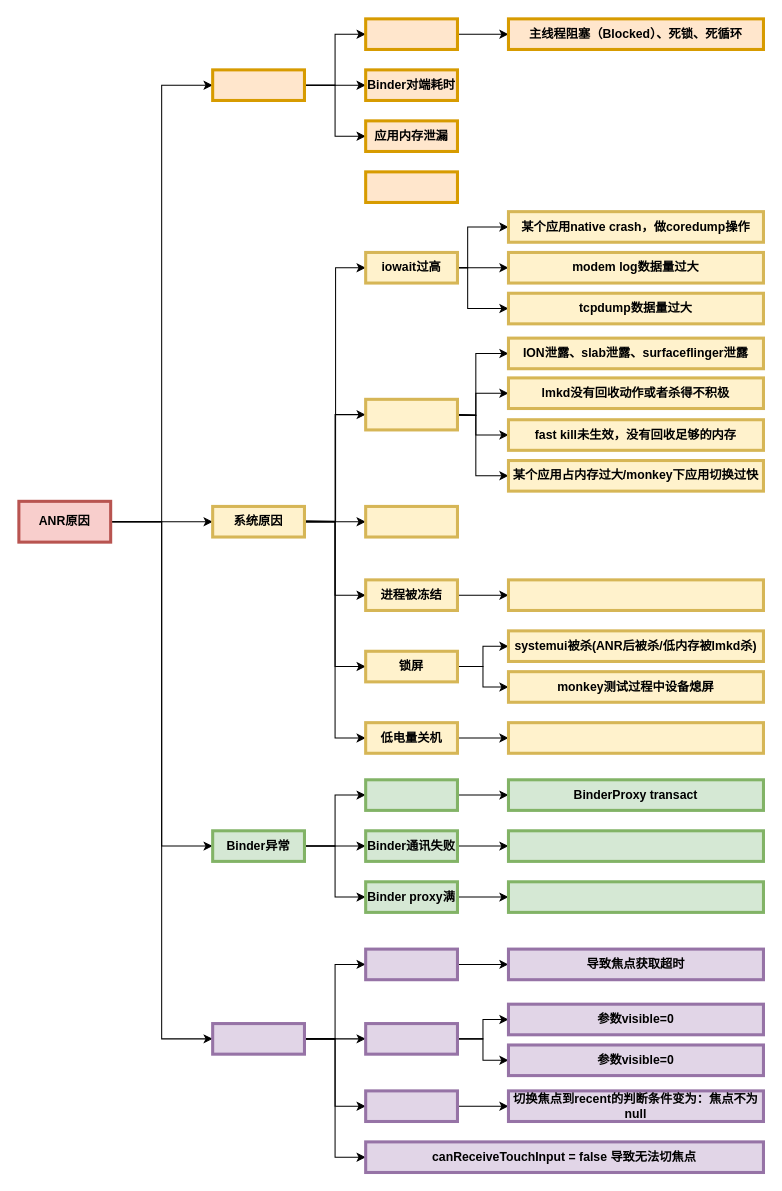
The diagram is 782 pixels wide and 1191 high, and some of its shapes have lost their labels. Here are the shapes that lost their labels. From the top down, the box of each, then its label:
(364, 17, 458, 50): 主线程耗时
(211, 68, 305, 101): 应用原因
(364, 170, 458, 203): 相邻应用耗时
(364, 397, 458, 431): 内存问题
(364, 504, 458, 538): CPU负载过大
(506, 578, 764, 611): 被freeze后一直没有unfreeze
(506, 721, 764, 754): Lowbattery shutdown
(364, 778, 458, 811): Binder通讯阻塞
(506, 829, 764, 862): binder请求数据量过大（1016kb）
(506, 880, 764, 913): IPCThreadState:Waiting for thread to be free
(364, 947, 458, 981): 系统运行慢
(211, 1022, 305, 1055): 没有焦点窗口
(364, 1022, 458, 1055): surfaceflinger异常
(364, 1089, 458, 1123): 焦点不能正常切换到recent
